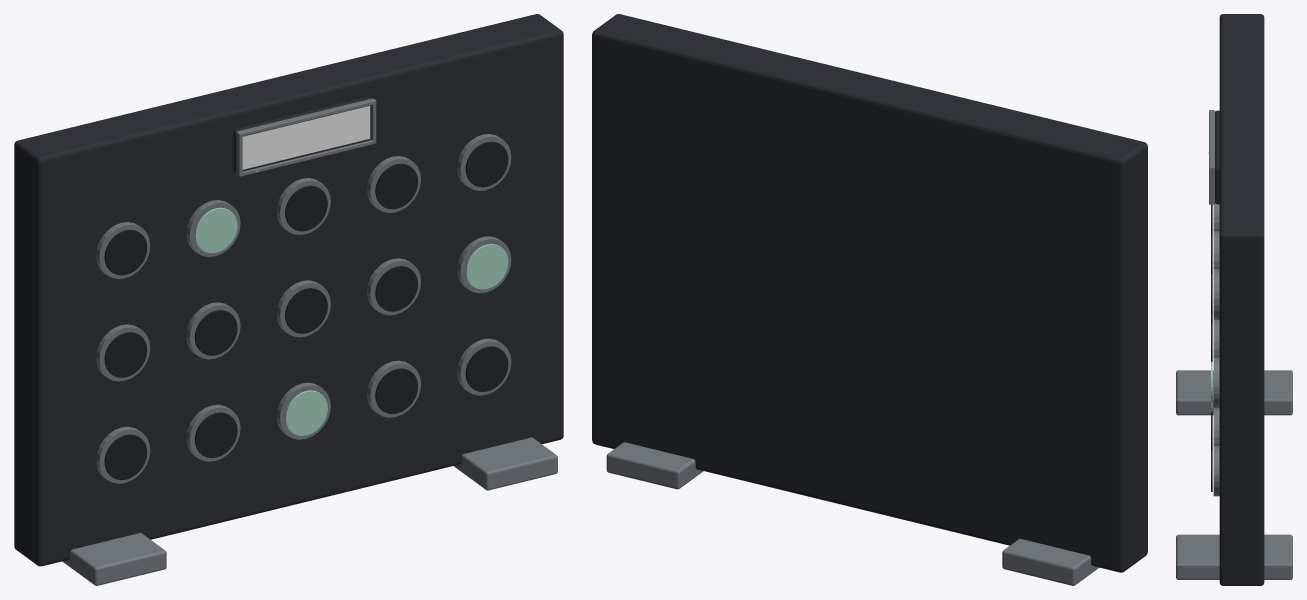
Rendered from BX_StimulusWall.fbx.
The picture shows the model from 3 angles, left to right: view 1: azimuth 30°, elevation 25°; view 2: azimuth 150°, elevation 25°; view 3: azimuth 270°, elevation 25°; orthographic projection. The views are drawn at different scales.
Visible parts, largest first — view 1: BX_StimulusWall; view 2: BX_StimulusWall; view 3: BX_StimulusWall.
Boxes of the visible parts, bbox=[...] form: BX_StimulusWall: bbox=[14, 14, 563, 585]; BX_StimulusWall: bbox=[592, 14, 1147, 585]; BX_StimulusWall: bbox=[1176, 14, 1292, 585].
Size of the model in its own units: 350 by 265 by 78.
